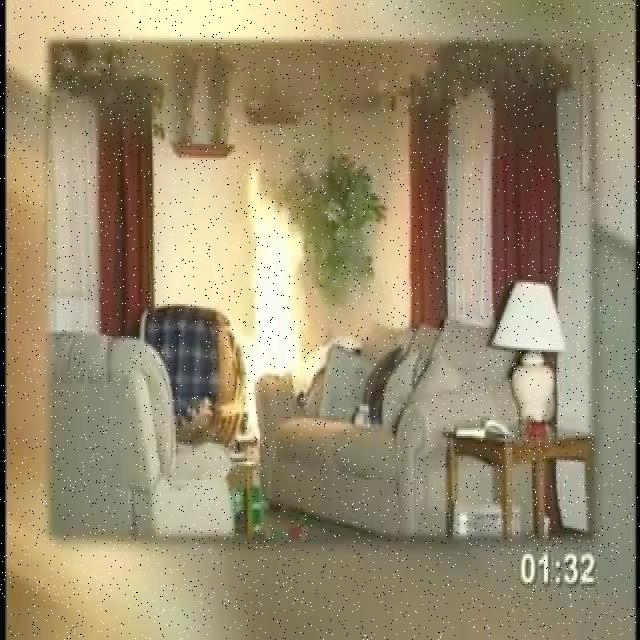fire: (238, 162, 322, 412)
